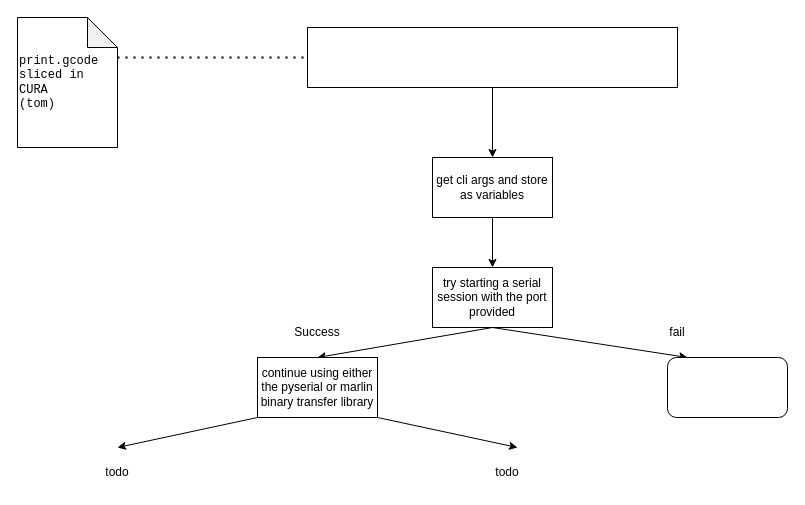
Some shapes in this 805 by 505 pixel diagram are drawn without their labels. Each missing label, with the centre of its shape:
"command line: latprint.py /dev/ttyUSB0 print.gcode" goes at (x=492, y=57).
"print error to cli" goes at (x=727, y=387).
